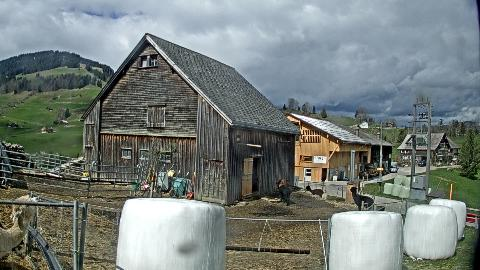car: (389, 166, 397, 172), (418, 162, 426, 166)
sheep: (0, 194, 42, 260), (350, 187, 374, 211), (277, 179, 291, 205), (306, 184, 324, 197), (322, 188, 328, 200)
